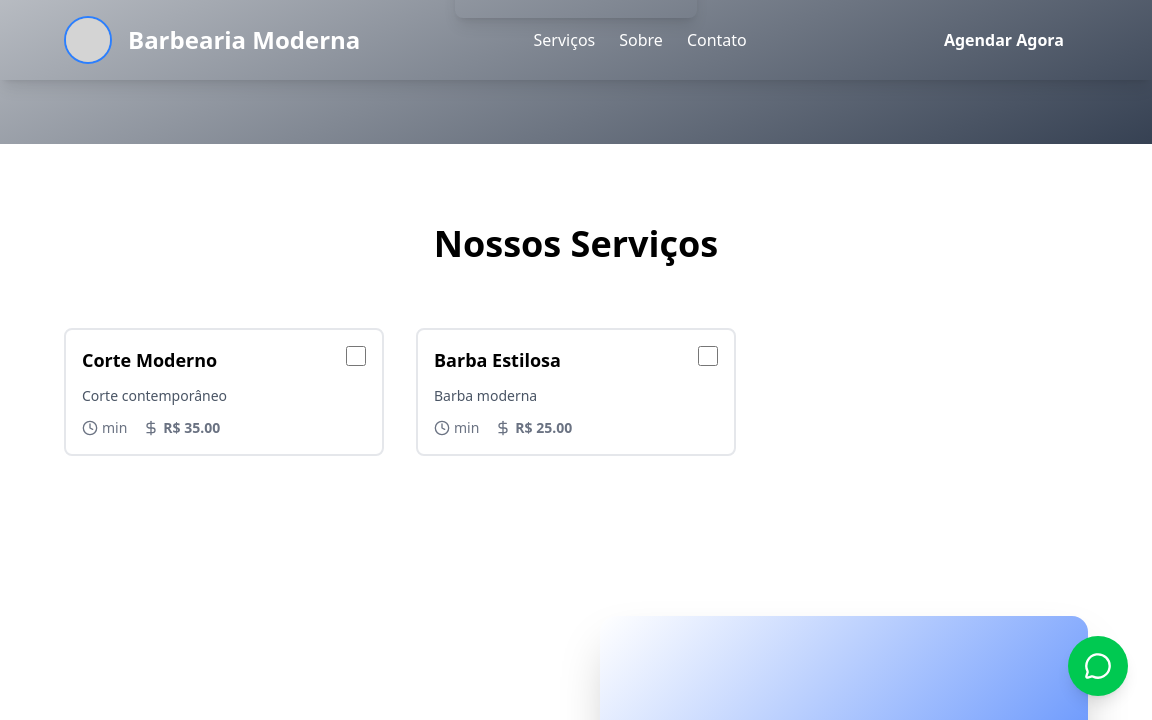
Test case: Template2Modern › should show floating schedule button when services selected
(page scrolled)
Click the text "Corte Moderno". click: (150, 360)
box: [82, 346, 366, 374]
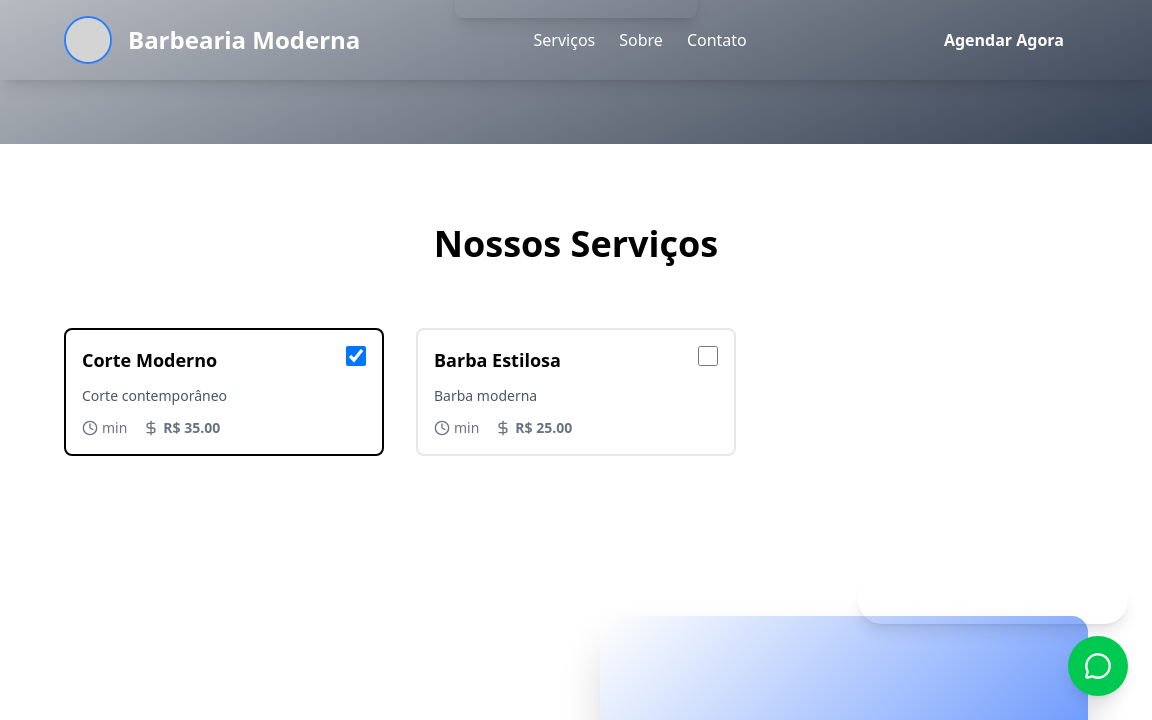
Expected: the button "Agendar 1 serviço • R$ 35.00" is shown, [858, 576, 1128, 624]
